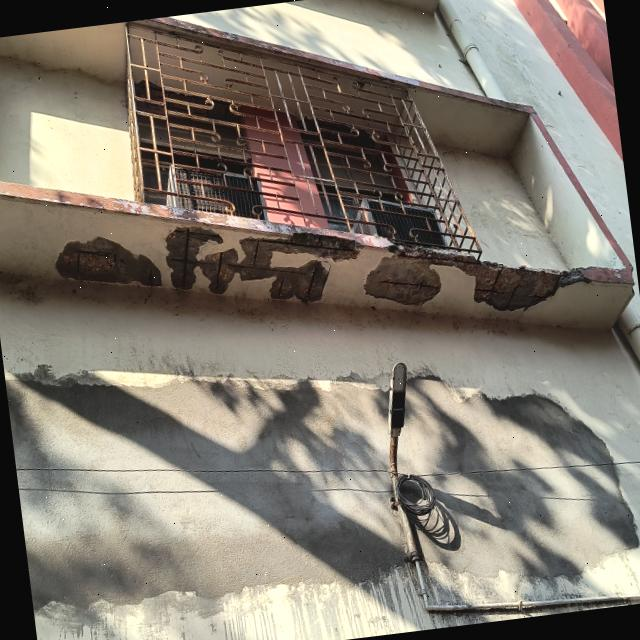spalling: (4, 372, 404, 605), (398, 376, 640, 599), (165, 227, 360, 301), (363, 244, 570, 311), (55, 237, 162, 286)
